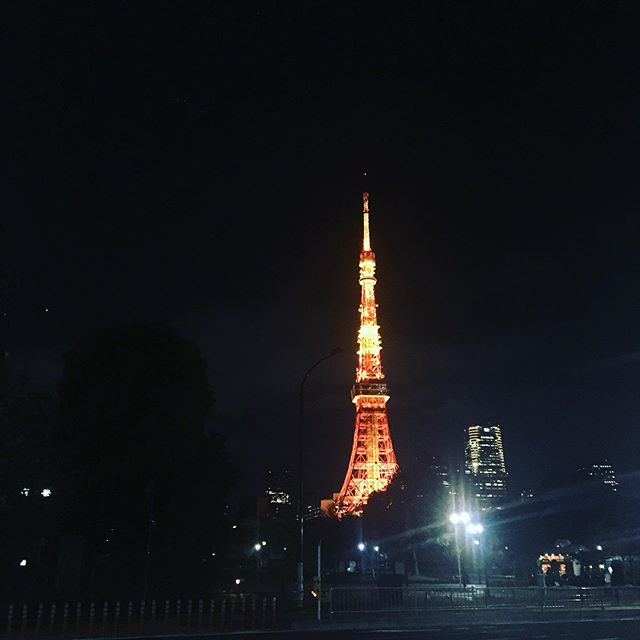building: (314, 163, 403, 514), (467, 416, 522, 558)
sky: (1, 1, 640, 375)
tree: (49, 323, 221, 587)
